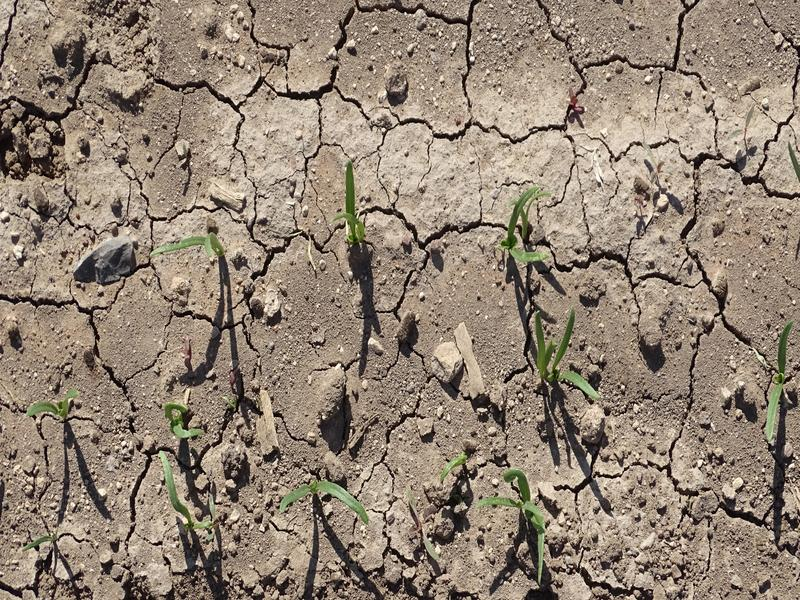Espinaca: (474, 469, 554, 572), (527, 306, 600, 396), (155, 451, 226, 532), (275, 478, 373, 526), (762, 323, 792, 437), (507, 190, 547, 263), (331, 158, 367, 239), (28, 389, 83, 423), (164, 401, 205, 441), (169, 232, 224, 261)
